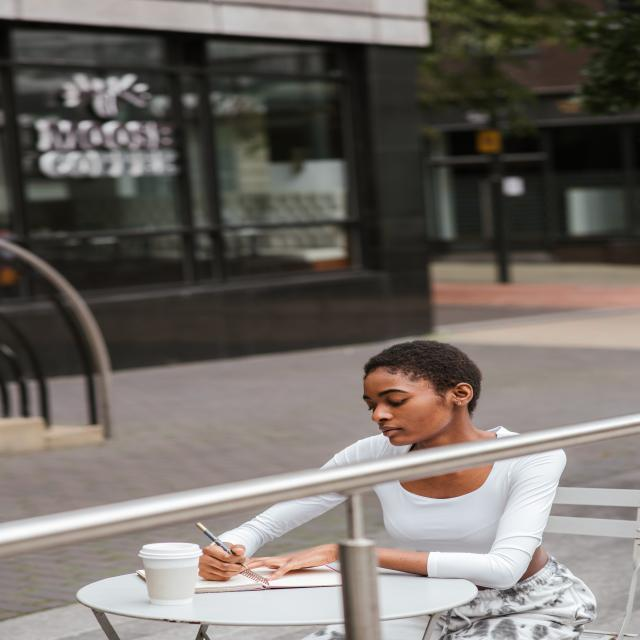cup: (134, 538, 210, 604)
